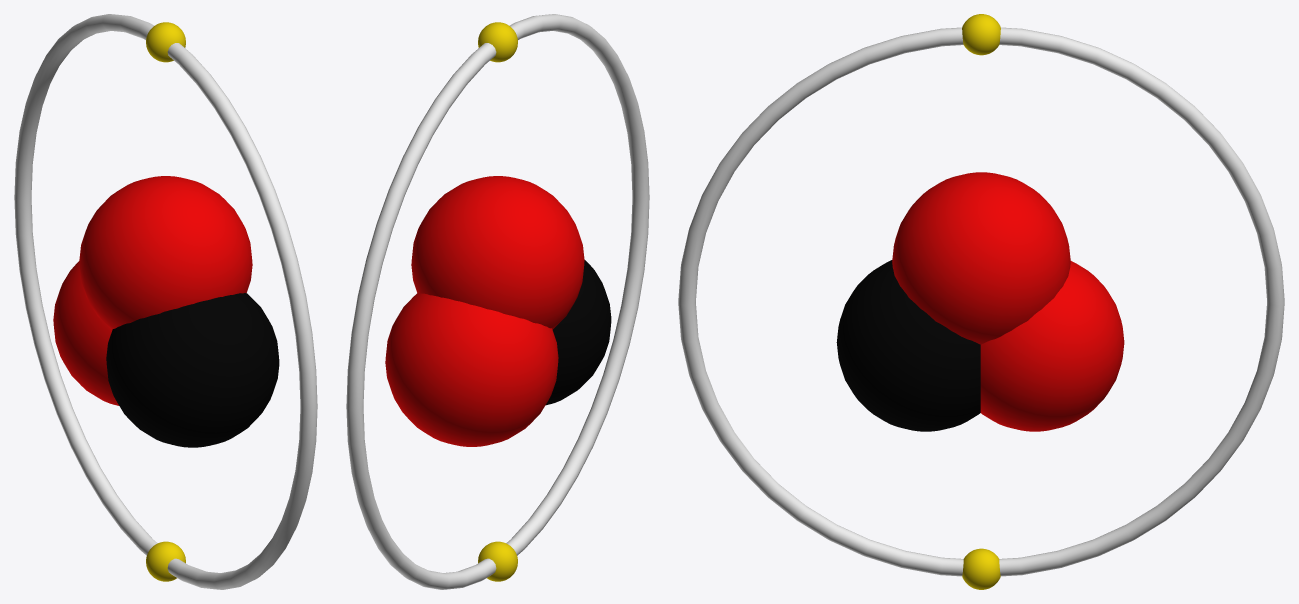
Rendered from Helium3.fbx.
3 renders of one model, left to right at view 1: azimuth 30°, elevation 25°; view 2: azimuth 150°, elevation 25°; view 3: azimuth 270°, elevation 25°, orthographic. The views are drawn at different scales.
Parts seen in each view (by area): view 1: Orbit, Proton, Neutron, Neutron 2, Electron, Electron 2; view 2: Orbit, Neutron 2, Neutron, Proton, Electron, Electron 2; view 3: Orbit, Neutron, Proton, Neutron 2, Electron, Electron 2.
Boxes of the visible parts, box(x1,y1,x2,y2) form: Orbit: box(14, 14, 317, 589); Proton: box(106, 293, 279, 447); Neutron: box(79, 176, 252, 329); Neutron 2: box(53, 261, 118, 405); Electron: box(146, 22, 185, 62); Electron 2: box(146, 541, 185, 581); Orbit: box(346, 14, 649, 589); Neutron 2: box(385, 293, 558, 446); Neutron: box(411, 176, 584, 329); Proton: box(546, 260, 611, 405); Electron: box(478, 22, 517, 62); Electron 2: box(478, 541, 517, 581); Orbit: box(678, 27, 1284, 576); Neutron: box(892, 172, 1070, 344); Proton: box(836, 260, 980, 431); Neutron 2: box(980, 261, 1124, 431); Electron: box(962, 14, 1000, 55); Electron 2: box(962, 548, 1000, 589).
Bounding box in the file's own units: 200 × 707 × 679.
